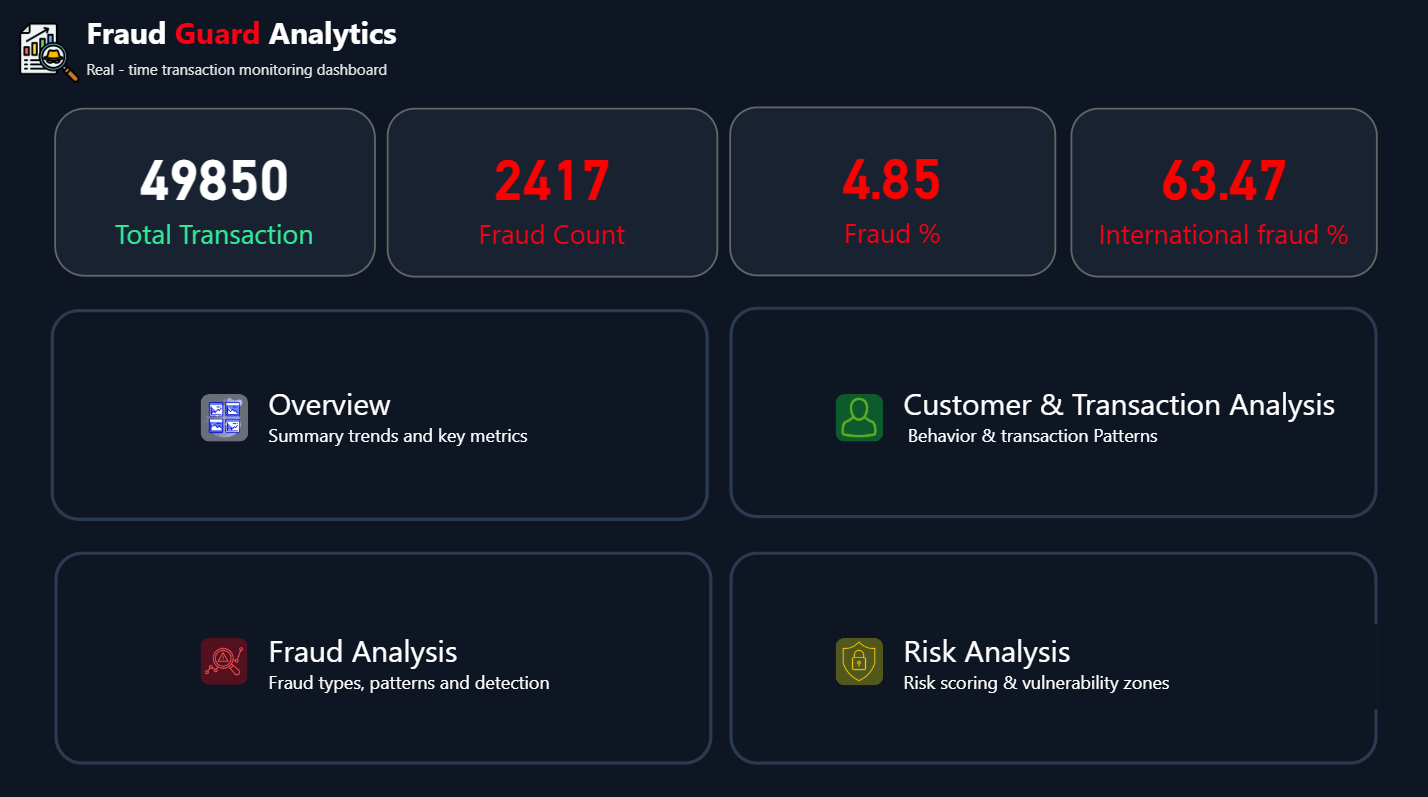

Layout of this report page (visuals, bound fields, positions):
{"tool":"powerbi","page":{"name":"Home Page","canvas":[1280,720],"ordinal":0},"visuals":[{"type":"card","fields":{"Values":["Clean_Fraud_datection_fCSV.Total Transaction"]},"box":[50,101.2,286.2,150],"z":0},{"type":"shape","box":[746.2,573.8,42.5,42.5],"z":0,"group":"g2"},{"type":"card","fields":{"Values":["Clean_Fraud_datection_fCSV.Fraud Count"]},"box":[346.2,101.2,295,151.2],"z":1000},{"type":"image","box":[750,577.6,35,35],"z":1000,"group":"g2"},{"type":"card","fields":{"Values":["Clean_Fraud_datection_fCSV.Fraud %"]},"box":[651.2,100,291.2,151.2],"z":2000},{"type":"card","fields":{"Values":["Clean_Fraud_datection_fCSV.International fraud %"]},"box":[955,101.2,273.8,151.2],"z":3000},{"type":"textbox","box":[0,0,1280,82.5],"z":4000},{"type":"image","box":[18.8,22.5,53.8,60],"z":5000},{"type":"actionButton","box":[46.2,280,586.2,188.8],"z":6000},{"type":"actionButton","box":[651.2,278.8,577.5,188.8],"z":7000},{"type":"actionButton","box":[651.2,496.2,577.5,190],"z":8000},{"type":"actionButton","box":[50,496.2,586.2,190],"z":9000},{"type":"shape","box":[746.2,356.2,42.5,42.5],"z":10000,"group":"g4"},{"type":"group","id":"g1","title":"Group 3","box":[180,573.8,42.5,42.5],"z":10000},{"type":"shape","box":[180,356.2,42.5,42.5],"z":11000,"group":"g3"},{"type":"group","id":"g2","title":"Group 4","box":[746.2,573.8,42.5,42.5],"z":11000},{"type":"group","id":"g3","title":"Group 1","box":[180,356.2,42.5,42.5],"z":12000},{"type":"shape","box":[180,573.8,42,42],"z":12000,"group":"g1"},{"type":"group","id":"g4","title":"Group 2","box":[746.2,356.2,42.5,42.5],"z":13000},{"type":"image","box":[183.8,577.6,35,35],"z":13500,"group":"g1"},{"type":"textbox","box":[236.2,341.2,380,76.2],"z":14000},{"type":"image","box":[183.8,360,35,35],"z":14000,"group":"g3"},{"type":"image","box":[750,360,35,35],"z":14002,"group":"g4"},{"type":"textbox","box":[236.2,561.2,380,76.2],"z":16000},{"type":"textbox","box":[801.2,561.2,427.5,76.2],"z":17000},{"type":"textbox","box":[801.2,341.2,410,76.2],"z":17500}]}

Visuals, with their boxes in screenshot pixels (x1, y1, x2, y2), scaled from the page's 1280x720 canvas onto the 1428x797 screenshot:
card - Clean_Fraud_datection_fCSV.Total Transaction: crop(56, 112, 375, 278)
shape: crop(832, 635, 880, 682)
card - Clean_Fraud_datection_fCSV.Fraud Count: crop(386, 112, 715, 279)
image: crop(837, 639, 876, 678)
card - Clean_Fraud_datection_fCSV.Fraud %: crop(726, 111, 1051, 278)
card - Clean_Fraud_datection_fCSV.International fraud %: crop(1065, 112, 1371, 279)
textbox: crop(0, 0, 1427, 91)
image: crop(21, 25, 81, 91)
actionButton: crop(52, 310, 706, 519)
actionButton: crop(726, 309, 1371, 518)
actionButton: crop(726, 549, 1371, 760)
actionButton: crop(56, 549, 710, 760)
shape: crop(832, 394, 880, 441)
"Group 3" group: crop(201, 635, 248, 682)
shape: crop(201, 394, 248, 441)
"Group 4" group: crop(832, 635, 880, 682)
"Group 1" group: crop(201, 394, 248, 441)
shape: crop(201, 635, 248, 682)
"Group 2" group: crop(832, 394, 880, 441)
image: crop(205, 639, 244, 678)
textbox: crop(264, 378, 687, 462)
image: crop(205, 398, 244, 437)
image: crop(837, 398, 876, 437)
textbox: crop(264, 621, 687, 706)
textbox: crop(894, 621, 1371, 706)
textbox: crop(894, 378, 1351, 462)
